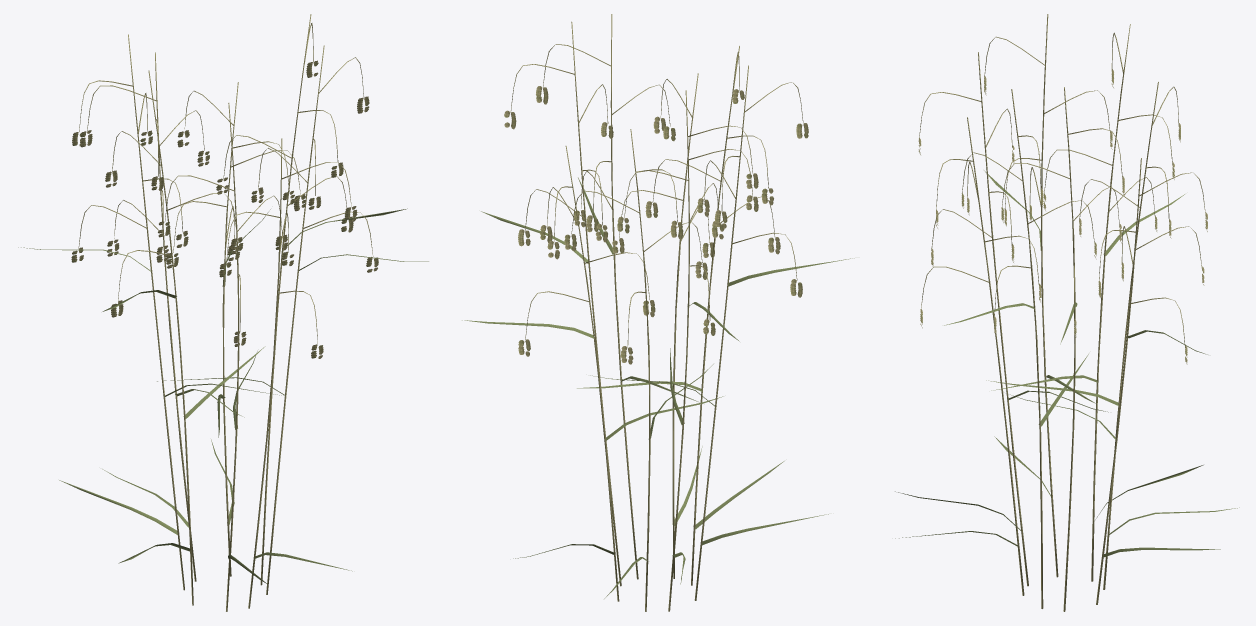
The model's file is Brize_1_Niveau0.fbx.
3 views of the same model, side by side, from view 1: azimuth 30°, elevation 25°; view 2: azimuth 150°, elevation 25°; view 3: azimuth 270°, elevation 25° (orthographic).
Visible parts, largest first — view 1: Brize_1_Niveau0; view 2: Brize_1_Niveau0; view 3: Brize_1_Niveau0.
Boxes of the visible parts, box(x1,y1,x2,y2) form: Brize_1_Niveau0: box(18, 14, 428, 611); Brize_1_Niveau0: box(462, 14, 854, 611); Brize_1_Niveau0: box(895, 14, 1239, 611).
Bounding box in the file's own units: 36.49 × 55.96 × 32.54.
